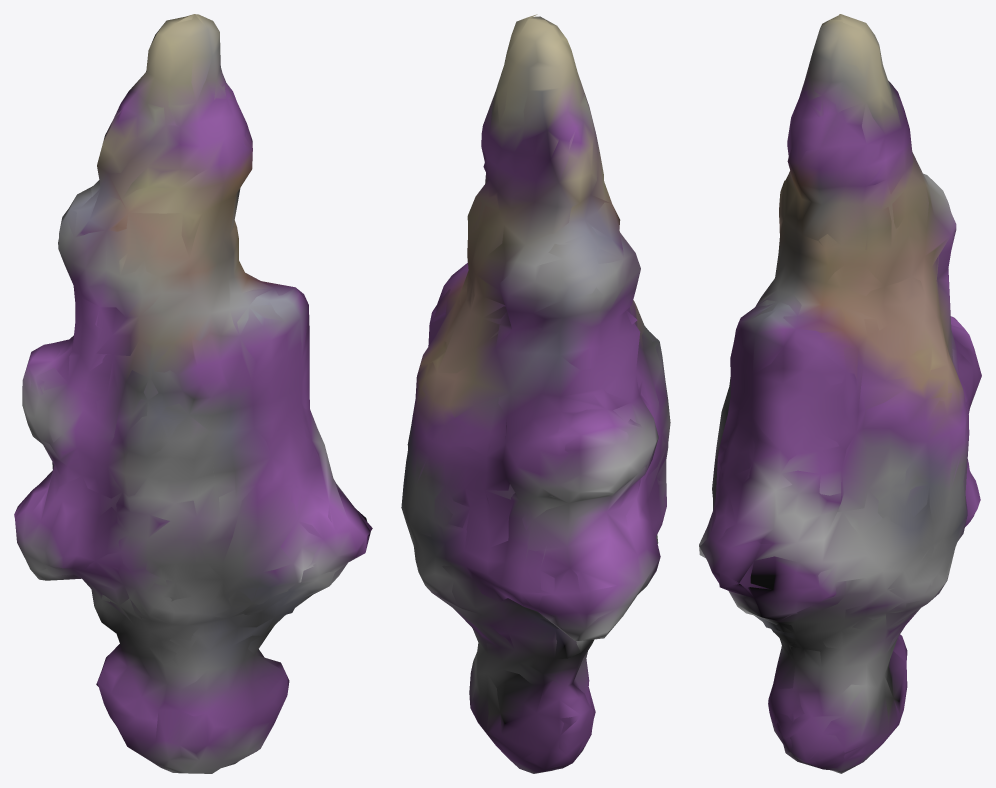
File: yuri_prime.glb
3 renders of one model, left to right at view 1: azimuth 30°, elevation 25°; view 2: azimuth 150°, elevation 25°; view 3: azimuth 270°, elevation 25°, orthographic.
Parts seen in each view (by area): view 1: yuri_prime; view 2: yuri_prime; view 3: yuri_prime.
Boxes of the visible parts, bbox=[...] form: yuri_prime: bbox=[14, 14, 372, 773]; yuri_prime: bbox=[401, 14, 670, 773]; yuri_prime: bbox=[699, 14, 981, 773].
Size of the model in its own units: 0.8284 by 2.22 by 0.7598.
